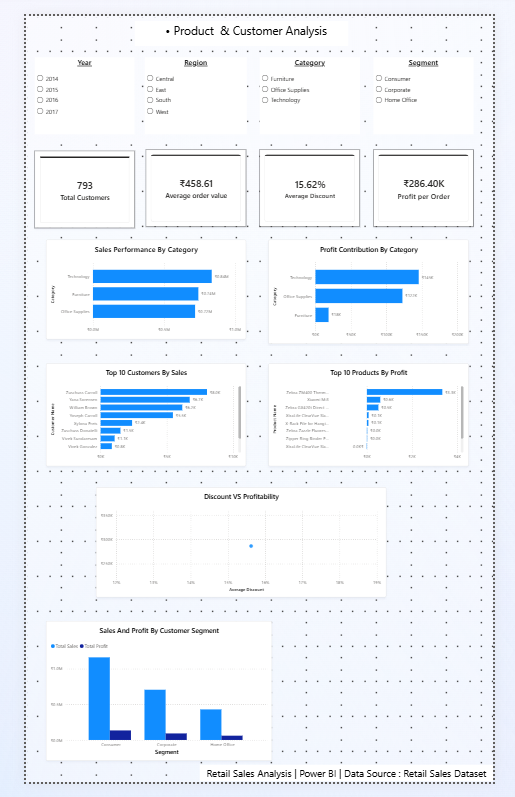

The dashboard page shown, as its layout file describes it:
{"tool":"powerbi","page":{"name":"Product & Profitability","canvas":[1280,2100],"ordinal":1},"visuals":[{"type":"textbox","box":[296.7,13.1,585.2,68.9],"z":0},{"type":"cardVisual","fields":{"Data":["Sample - Superstore.Total Customers"]},"box":[25,368.8,274,211],"z":1000},{"type":"cardVisual","fields":{"Data":["Sample - Superstore.Average order value"]},"box":[329.7,367.2,274,211],"z":2000},{"type":"cardVisual","fields":{"Data":["Sample - Superstore.Average Discount"]},"box":[640.6,365.6,274,211],"z":3000},{"type":"cardVisual","fields":{"Data":["Sum(Sample - Superstore.Profit)"]},"box":[954.7,367.2,274,211],"z":4000},{"type":"barChart","title":"Profit Contribution By Category ","fields":{"Category":["Sample - Superstore.Category"],"Y":["Sample - Superstore.Total Profit"]},"box":[664.1,614.1,548.4,285.9],"z":5000},{"type":"barChart","title":"Sales Performance  By Category","fields":{"Category":["Sample - Superstore.Category"],"Y":["Sample - Superstore.Total Sales"]},"box":[54.7,614.1,548.6,272.9],"z":6000},{"type":"barChart","title":"Top 10 Customers By Sales","fields":{"Category":["Sample - Superstore.Customer Name"],"Y":["Sample - Superstore.Total Sales"]},"box":[54.7,954.7,548.6,281.4],"z":7000},{"type":"barChart","title":"Top 10 Products By Profit","fields":{"Category":["Sample - Superstore.Product Name"],"Y":["Sample - Superstore.Total Profit"]},"box":[664.1,954.7,548.6,281.4],"z":8000},{"type":"scatterChart","title":"Discount VS Profitability  ","fields":{"X":["Sample - Superstore.Average Discount"],"Y":["Sample - Superstore.Total Profit"]},"box":[190.6,1292.2,795.7,301.4],"z":9000},{"type":"clusteredColumnChart","title":"Sales And Profit By Customer Segment","fields":{"Category":["Sample - Superstore.Segment"],"Y":["Sample - Superstore.Total Sales","Sample - Superstore.Total Profit"]},"box":[54.7,1659.4,620,382.9],"z":10000},{"type":"listSlicer","fields":{"Values":["Sample - Superstore.Year"]},"box":[25,112.5,273.4,210.9],"z":11000},{"type":"listSlicer","fields":{"Values":["Sample - Superstore.Region"]},"box":[326.6,114.1,279.7,210.9],"z":12000},{"type":"listSlicer","fields":{"Values":["Sample - Superstore.Category"]},"box":[640.6,112.5,275,211],"z":13000},{"type":"listSlicer","fields":{"Values":["Sample - Superstore.Segment"]},"box":[954.7,112.5,274,211],"z":14000},{"type":"textbox","box":[475,2055,805,45],"z":15000}]}

Visuals, with their boxes on the page's 1280x2100 design canvas (x1, y1, x2, y2). These are canvas units, not pixel positions in the 515x797 screenshot, which may show the page scaled, cropped or inside an application window:
textbox: pyautogui.locateOnScreen(297, 13, 882, 82)
cardVisual - Sample - Superstore.Total Customers: pyautogui.locateOnScreen(25, 369, 299, 580)
cardVisual - Sample - Superstore.Average order value: pyautogui.locateOnScreen(330, 367, 604, 578)
cardVisual - Sample - Superstore.Average Discount: pyautogui.locateOnScreen(641, 366, 915, 577)
cardVisual - Sum(Sample - Superstore.Profit): pyautogui.locateOnScreen(955, 367, 1229, 578)
"Profit Contribution By Category " barChart: pyautogui.locateOnScreen(664, 614, 1212, 900)
"Sales Performance  By Category" barChart: pyautogui.locateOnScreen(55, 614, 603, 887)
"Top 10 Customers By Sales" barChart: pyautogui.locateOnScreen(55, 955, 603, 1236)
"Top 10 Products By Profit" barChart: pyautogui.locateOnScreen(664, 955, 1213, 1236)
"Discount VS Profitability  " scatterChart: pyautogui.locateOnScreen(191, 1292, 986, 1594)
"Sales And Profit By Customer Segment" clusteredColumnChart: pyautogui.locateOnScreen(55, 1659, 675, 2042)
listSlicer - Sample - Superstore.Year: pyautogui.locateOnScreen(25, 112, 298, 323)
listSlicer - Sample - Superstore.Region: pyautogui.locateOnScreen(327, 114, 606, 325)
listSlicer - Sample - Superstore.Category: pyautogui.locateOnScreen(641, 112, 916, 324)
listSlicer - Sample - Superstore.Segment: pyautogui.locateOnScreen(955, 112, 1229, 324)
textbox: pyautogui.locateOnScreen(475, 2055, 1280, 2100)
